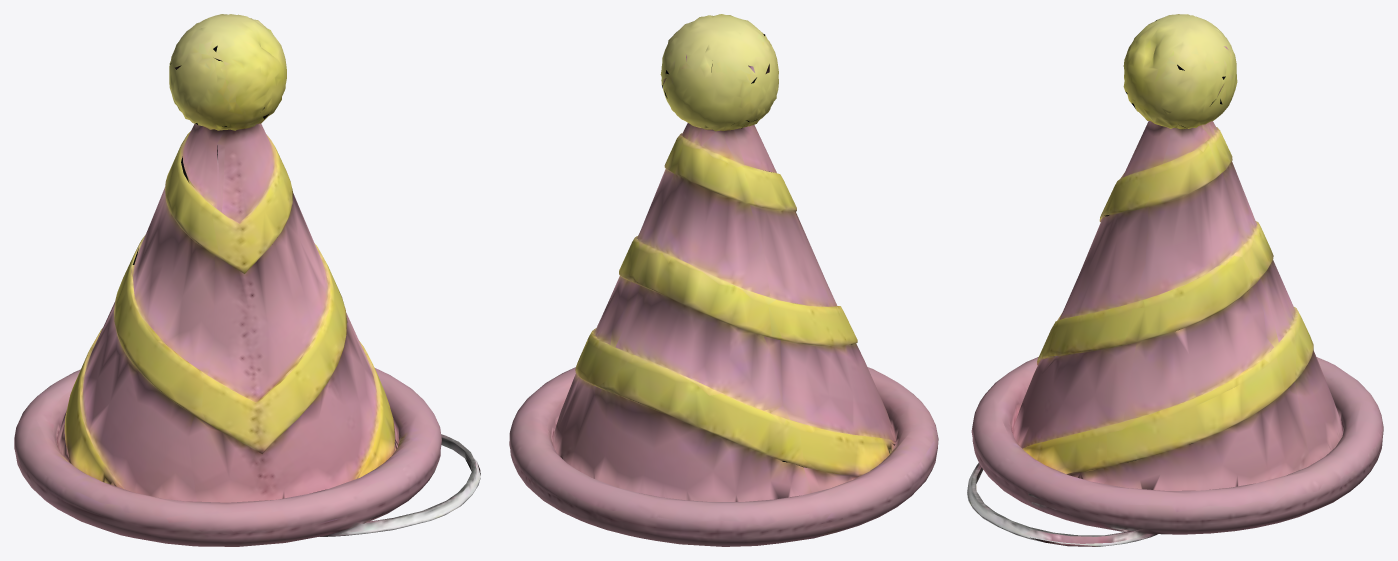
Rendered from party.glb.
3 views of the same model, side by side, from view 1: azimuth 30°, elevation 25°; view 2: azimuth 150°, elevation 25°; view 3: azimuth 270°, elevation 25° (orthographic). The views are drawn at different scales.
Parts seen in each view (by area): view 1: node_0; view 2: node_0; view 3: node_0.
Boxes of the visible parts, left/top/right/bottom form: node_0: left=14, top=14, right=480, bottom=546; node_0: left=509, top=14, right=938, bottom=546; node_0: left=967, top=14, right=1383, bottom=546.
Size of the model in its own units: 0.46 by 0.5148 by 0.4483.
Materials: 1 (1 with a texture image).
